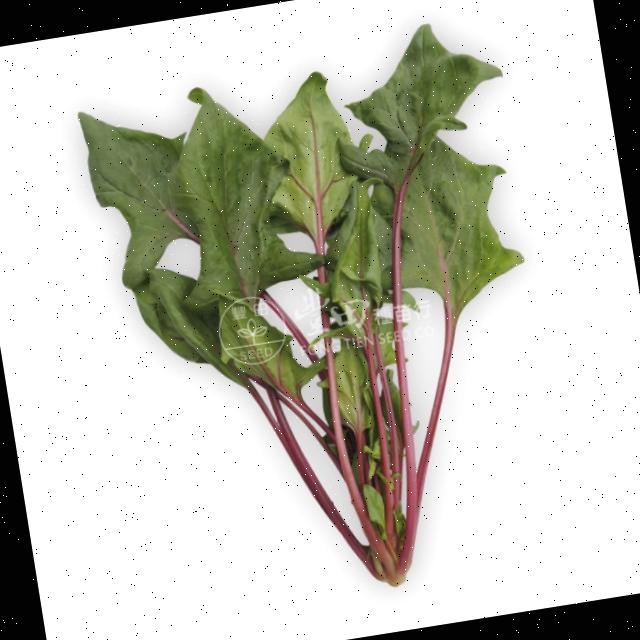spinach: (15, 2, 634, 640)
